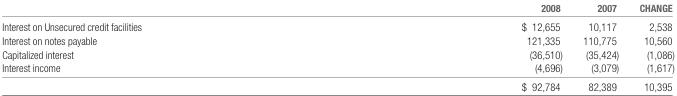table: (1, 1, 673, 92)
table column: (1, 1, 330, 92), (330, 1, 572, 92), (572, 1, 628, 92), (628, 1, 673, 92)
table column header: (1, 1, 673, 16)
table row: (1, 60, 673, 77), (1, 16, 673, 32), (1, 1, 673, 16), (1, 77, 673, 92), (1, 32, 673, 46), (1, 46, 673, 60)
